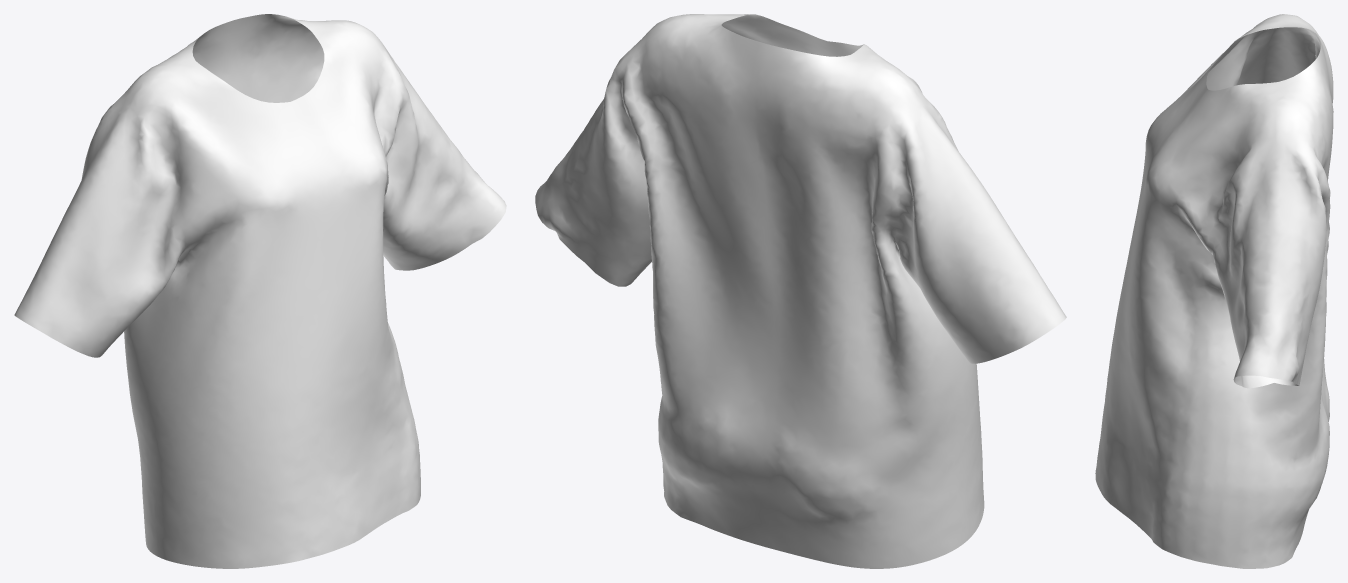
The picture shows the model from 3 angles, left to right: view 1: azimuth 30°, elevation 25°; view 2: azimuth 150°, elevation 25°; view 3: azimuth 270°, elevation 25°; orthographic projection. The views are drawn at different scales.
Parts seen in each view (by area): view 1: test; view 2: test; view 3: test.
Boxes of the visible parts, left/top/right/bottom form: test: left=14, top=14, right=506, bottom=568; test: left=535, top=14, right=1066, bottom=568; test: left=1095, top=14, right=1333, bottom=568.
Bounding box in the file's own units: 68.45 × 64.14 × 29.25.
